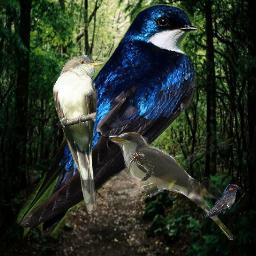Cuckoo: (108, 132, 233, 240), (53, 54, 105, 215)
Swallow: (17, 4, 200, 239), (202, 184, 241, 218)
